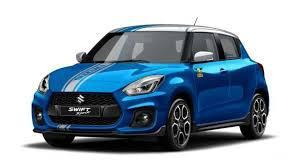Hatchback: (29, 23, 271, 152)
